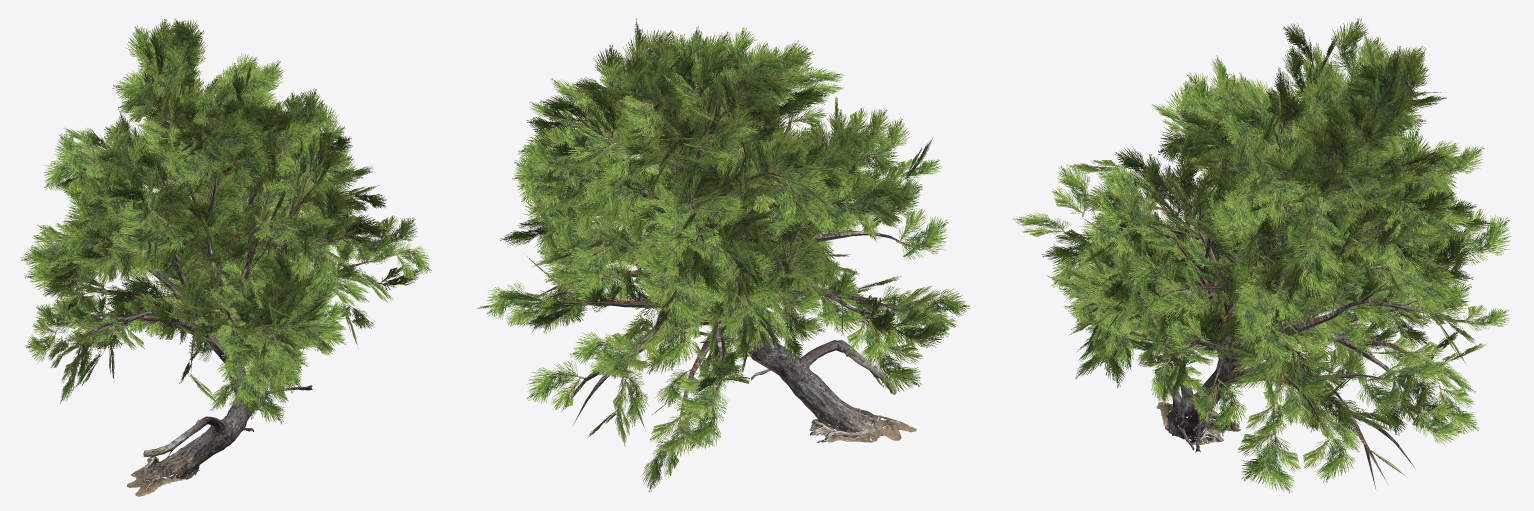
File: tree-medit.glb
3 views of the same model, side by side, from view 1: azimuth 30°, elevation 25°; view 2: azimuth 150°, elevation 25°; view 3: azimuth 270°, elevation 25° (orthographic). The views are drawn at different scales.
Parts seen in each view (by area): view 1: tree-medit; view 2: tree-medit; view 3: tree-medit.
Boxes of the visible parts, <box> form: tree-medit: <box>20,16,431,496</box>; tree-medit: <box>477,19,970,492</box>; tree-medit: <box>1012,18,1510,493</box>.
Bounding box in the file's own units: 11.49 × 11.01 × 11.49.
Materials: 3 (3 with a texture image).
